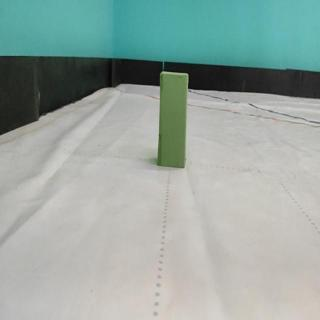greenbox: (157, 69, 190, 170)
